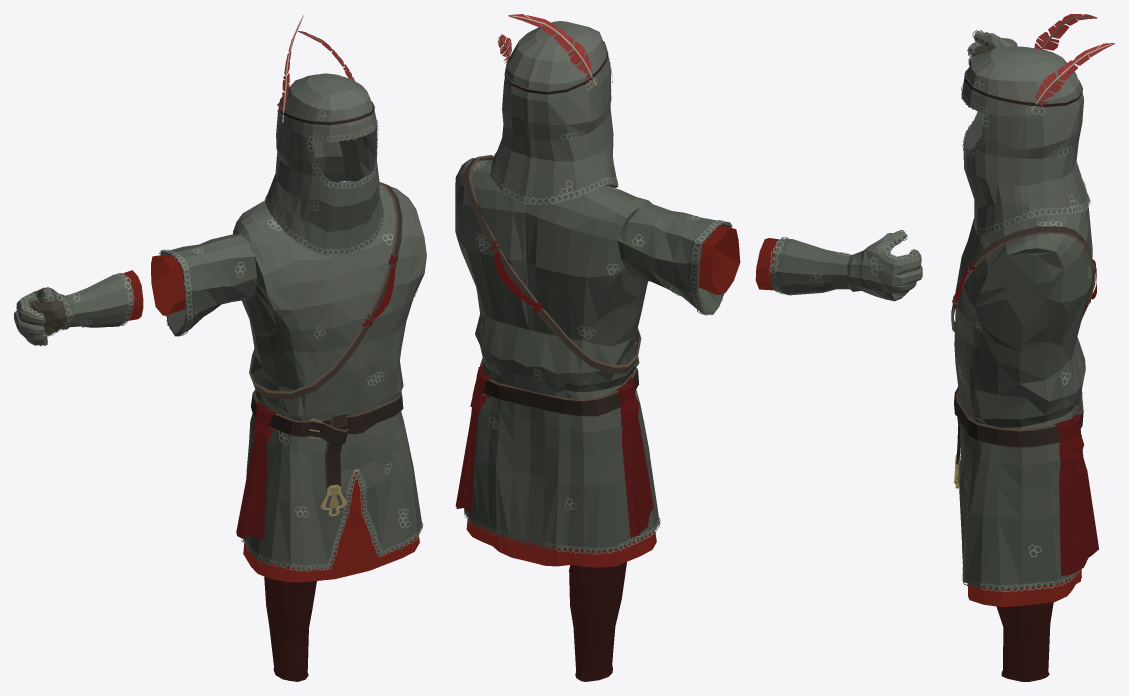
Rendered from chainmailArmor.glb.
3 renders of one model, left to right at view 1: azimuth 30°, elevation 25°; view 2: azimuth 150°, elevation 25°; view 3: azimuth 270°, elevation 25°, orthographic. The views are drawn at different scales.
Visible parts, largest first — view 1: chainmailBody, chainmailHat, chainmailUpperArm, chainmailLowerPants, chainmailGloveLowerArm, chainmailGlove; view 2: chainmailBody, chainmailHat, chainmailUpperArm, chainmailLowerPants, chainmailGloveLowerArm, chainmailGlove; view 3: chainmailBody, chainmailHat, chainmailLowerPants, chainmailGlove.
Boxes of the visible parts, x1,y1,x2,y2 form: chainmailBody: (232, 180, 426, 582); chainmailHat: (264, 15, 383, 255); chainmailUpperArm: (151, 234, 257, 336); chainmailLowerPants: (264, 576, 316, 681); chainmailGloveLowerArm: (66, 270, 143, 327); chainmailGlove: (14, 287, 74, 346); chainmailBody: (455, 155, 660, 567); chainmailHat: (489, 14, 618, 204); chainmailUpperArm: (617, 203, 740, 315); chainmailLowerPants: (569, 562, 626, 681); chainmailGloveLowerArm: (755, 237, 851, 295); chainmailGlove: (846, 230, 922, 301); chainmailBody: (951, 204, 1098, 607); chainmailHat: (961, 14, 1114, 235); chainmailLowerPants: (996, 602, 1053, 681); chainmailGlove: (967, 30, 1017, 65).
Bounding box in the file's own units: 1.32 × 1.93 × 0.4201.
